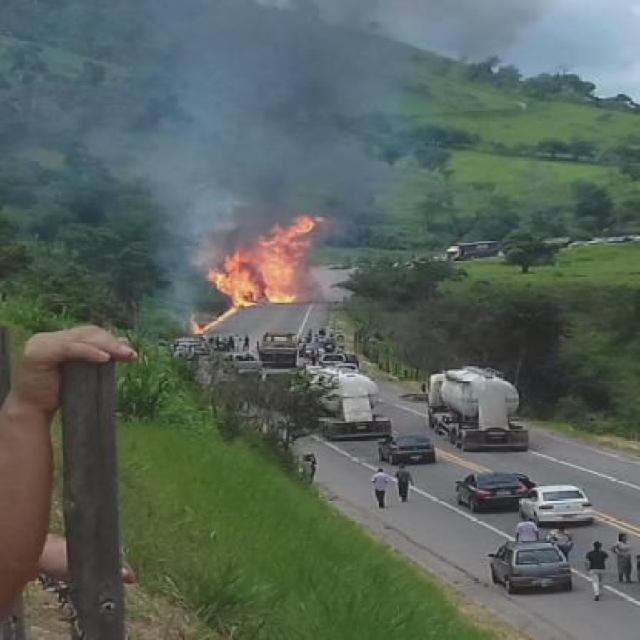Fire: (190, 202, 322, 326)
Smoke: (95, 0, 394, 251)
